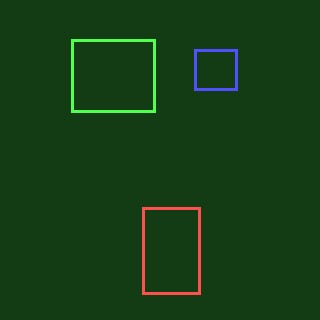bird: (142, 207, 200, 294), (194, 49, 237, 90)
drone: (71, 39, 155, 112)
